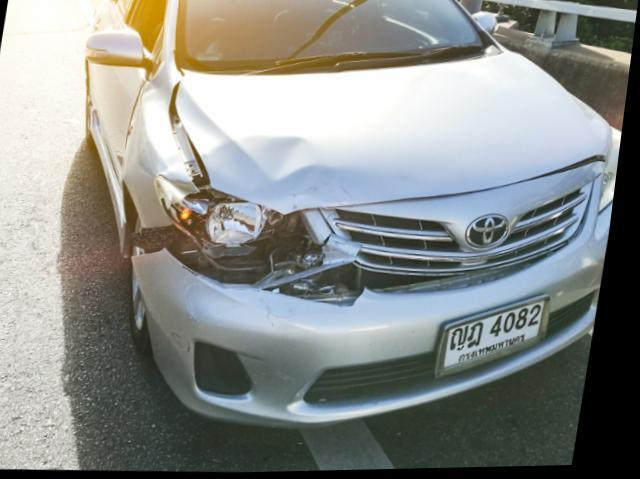crack: (326, 234, 339, 247)
dent: (208, 138, 409, 217), (160, 177, 205, 212)
dislocated part: (139, 225, 583, 428)
lamp broken: (180, 187, 326, 273)
